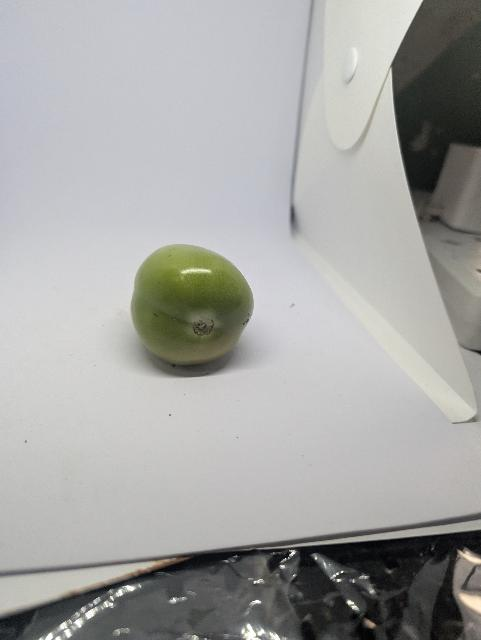green: (117, 231, 286, 392)
